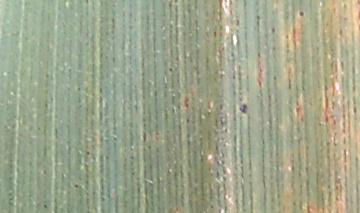tarspot: (237, 101, 251, 116), (297, 9, 306, 19), (166, 64, 173, 75), (270, 25, 277, 35), (72, 182, 80, 190), (84, 149, 91, 156), (42, 202, 49, 209), (272, 75, 278, 83)
